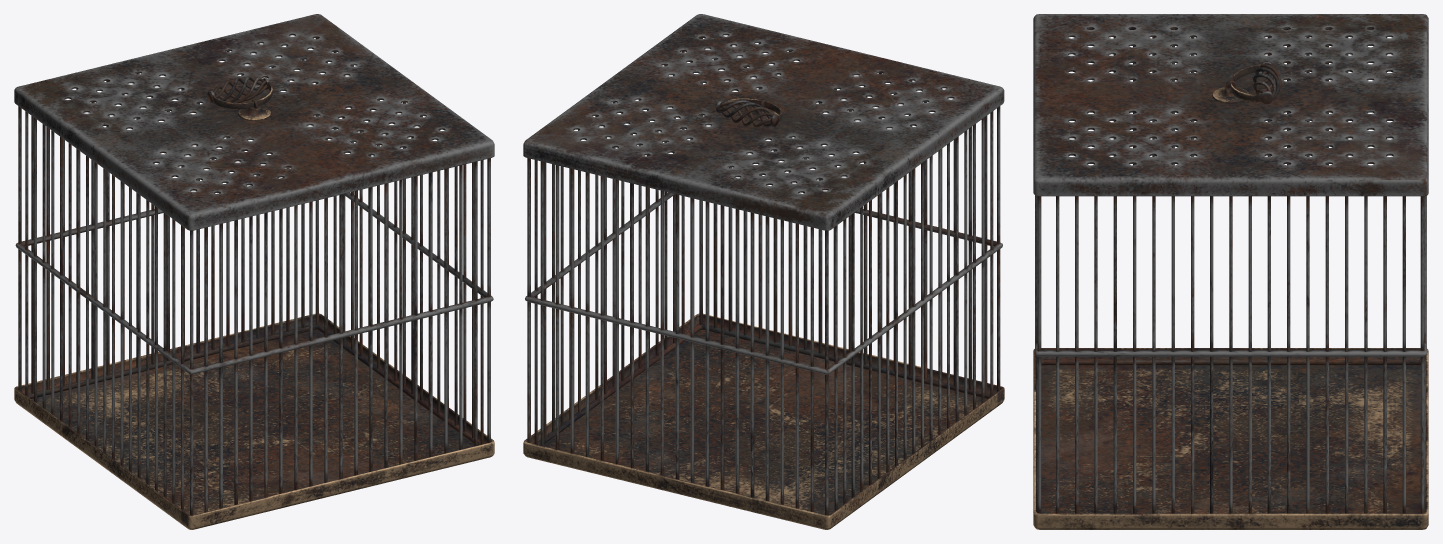
File: square-rat-cage-steampunk.fbx
3 views of the same model, side by side, from view 1: azimuth 30°, elevation 25°; view 2: azimuth 150°, elevation 25°; view 3: azimuth 270°, elevation 25° (orthographic). The views are drawn at different scales.
Parts seen in each view (by area): view 1: Cylinder.009__0; view 2: Cylinder.009__0; view 3: Cylinder.009__0.
Part boxes in pixels (<box>): Cylinder.009__0: <box>14,14,494,529</box>; Cylinder.009__0: <box>523,14,1004,529</box>; Cylinder.009__0: <box>1033,14,1428,529</box>.
Bounding box in the file's own units: 4996 × 5286 × 4996.
1 material, 1 textured.
